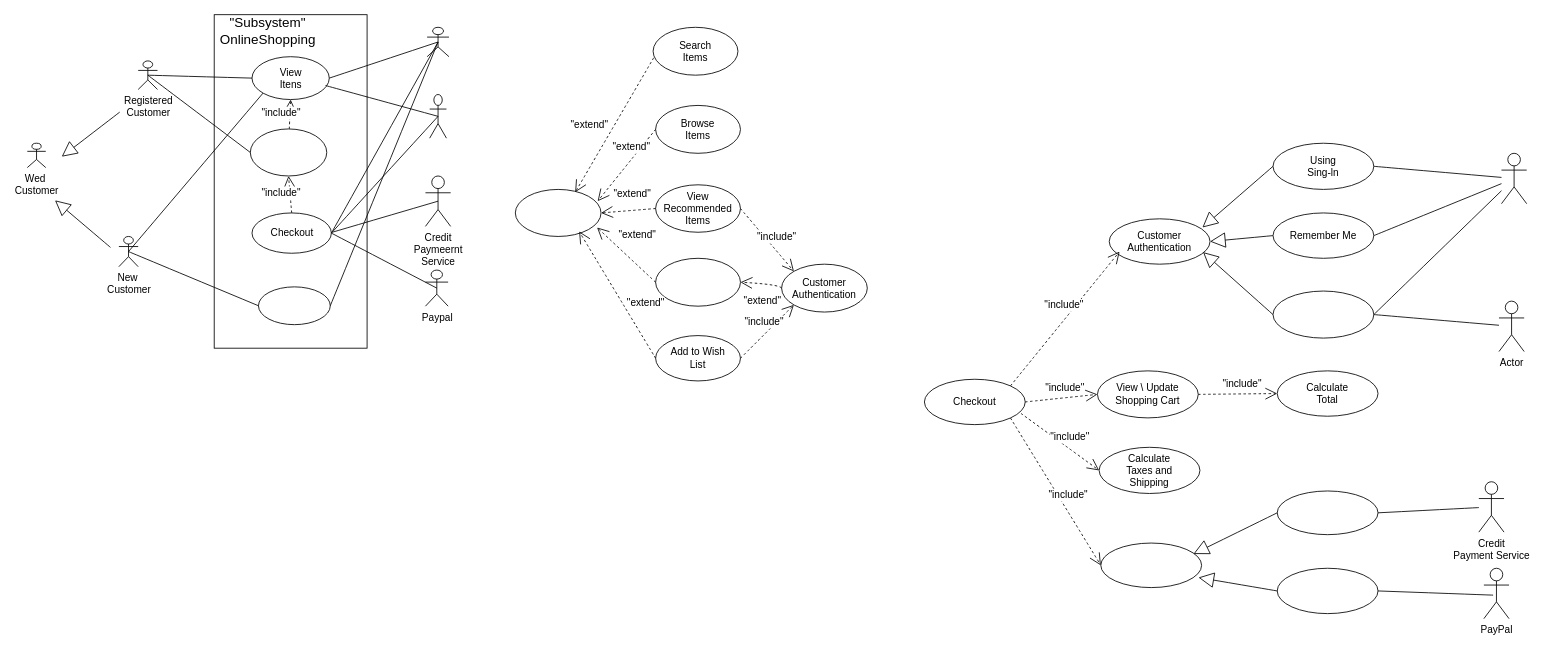
Some shapes in this 1560 by 651 pixel diagram are drawn without their labels. Here are the shapes that lost their labels. From the top down, the box of each, then its label:
(426, 26, 449, 57): ''Service'" Authentication
(429, 94, 446, 138): Identity Provider
(249, 128, 327, 176): Make Purchase
(1501, 152, 1527, 204): "Service" Authentication
(514, 189, 601, 236): View Items
(655, 257, 740, 306): Add to Shopping Cart
(258, 286, 330, 325): Client Register
(1272, 290, 1374, 338): Single Sing-On
(1276, 490, 1378, 535): Payment By Credit
(1100, 542, 1202, 588): Payment
(1276, 567, 1378, 614): Payment By PayPal
